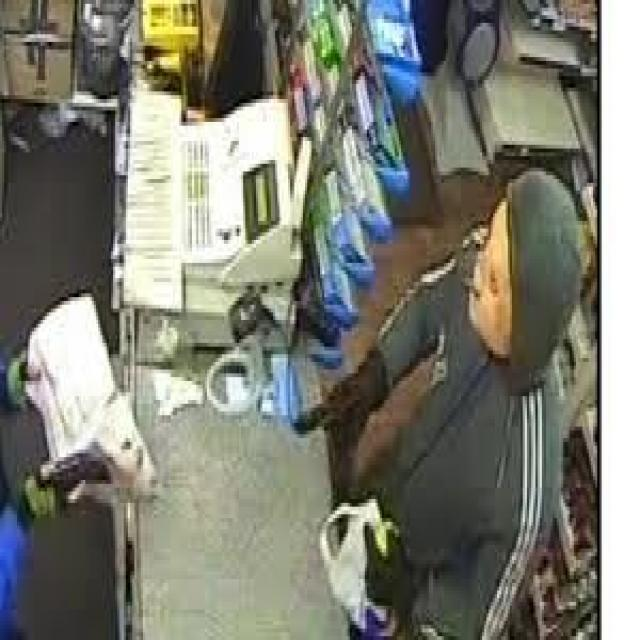weapon: (288, 381, 357, 446)
